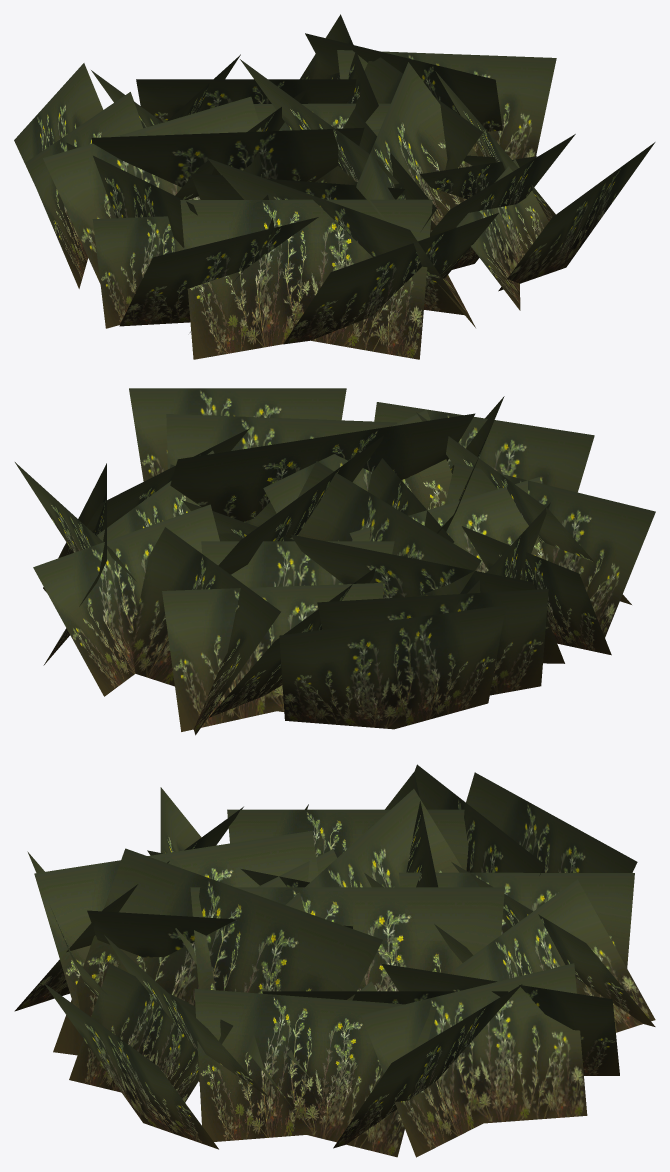
File: grass006.glb
3 views of the same model, one above another, from view 1: azimuth 30°, elevation 25°; view 2: azimuth 150°, elevation 25°; view 3: azimuth 270°, elevation 25° (orthographic). The views are drawn at different scales.
Parts seen in each view (by area): view 1: grass006; view 2: grass006; view 3: grass006.
Part boxes in pixels (box(x1,y1,x2,y2)): grass006: box(14, 14, 655, 359); grass006: box(15, 388, 655, 735); grass006: box(14, 764, 655, 1157).
Bounding box in the file's own units: 5.45 × 1.4 × 5.21.
1 material, 1 textured.
